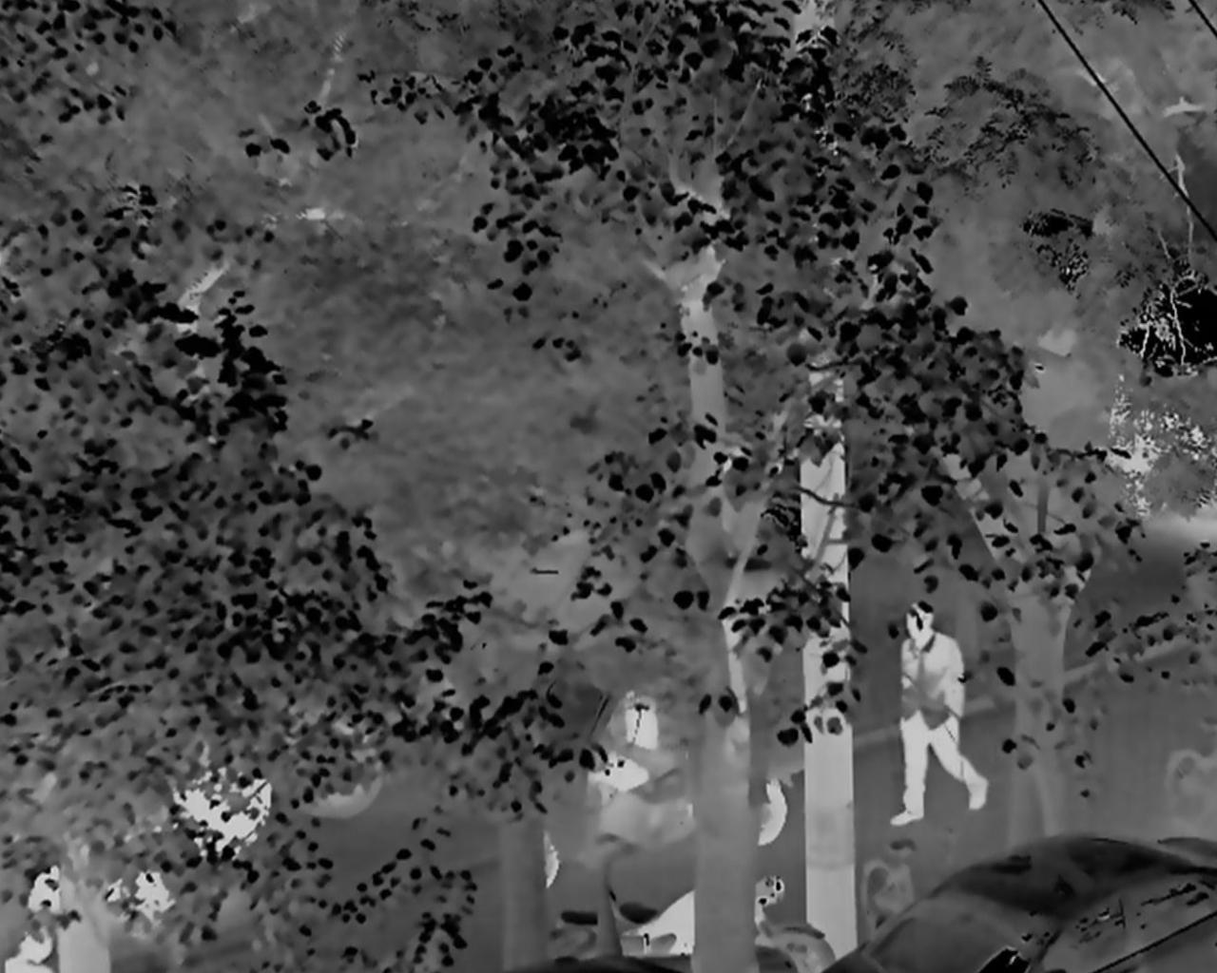person: (890, 600, 990, 826), (5, 927, 57, 973)
